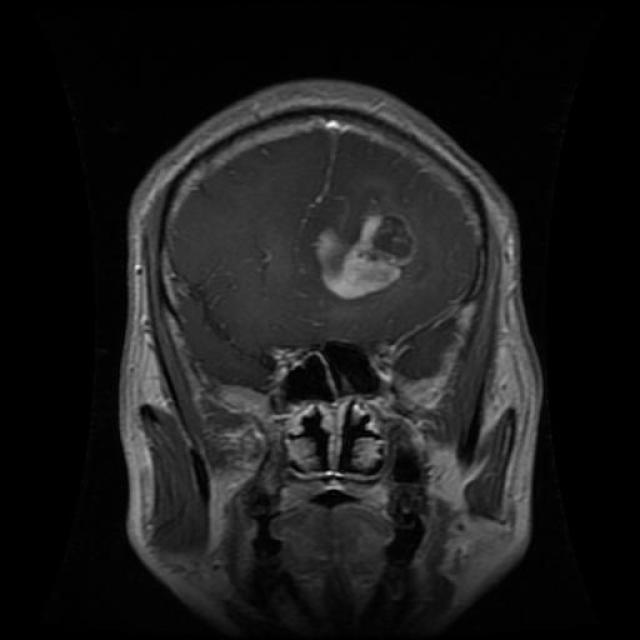glioma: (320, 210, 419, 301)
